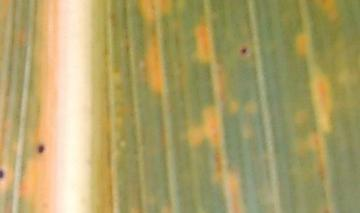tarspot: (239, 46, 248, 56), (38, 145, 44, 154), (1, 168, 5, 181)
